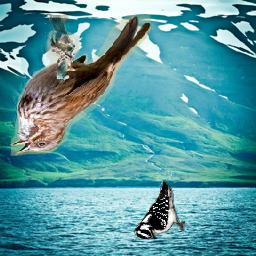Sparrow: (9, 16, 151, 157)
Woodpecker: (135, 179, 186, 239)
